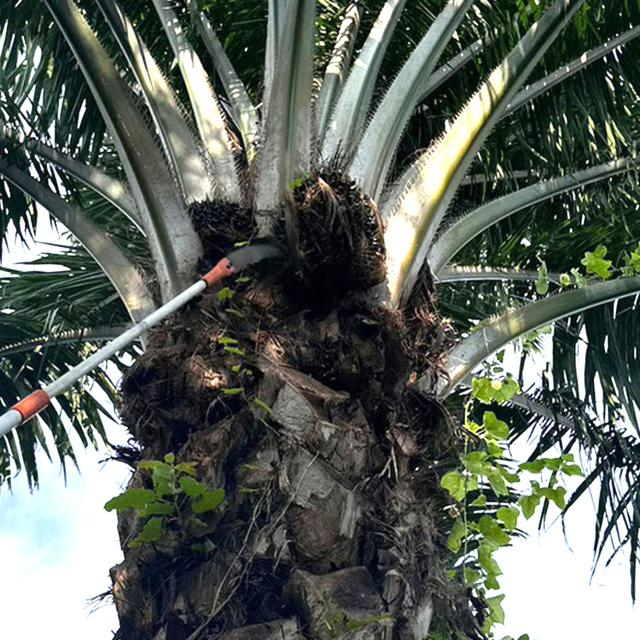unripe: (272, 156, 398, 306)
